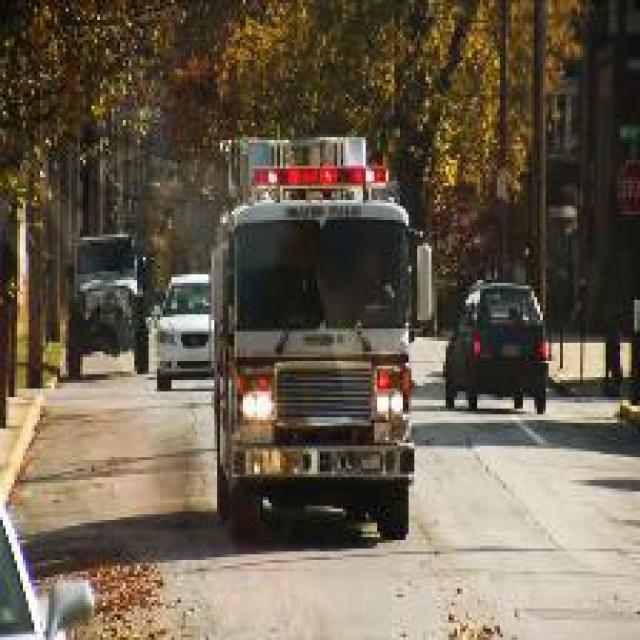other: (237, 153, 402, 189), (371, 359, 412, 424), (237, 367, 280, 422)
